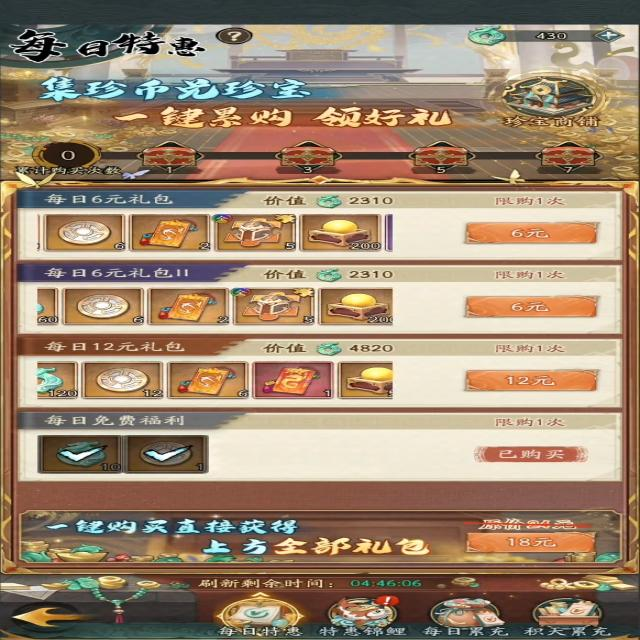navigation-DailyDiscount: (211, 594, 313, 640)
navigation-dailySum: (421, 594, 516, 638)
navigation-jitianSum: (523, 594, 616, 638)
navigation-tehuijinli: (312, 594, 419, 640)
navigation-treasureMall: (484, 66, 618, 132)
operation-back: (6, 598, 100, 633)
operation-buy: (456, 219, 606, 246), (457, 293, 604, 319), (460, 367, 600, 394), (463, 530, 604, 554)
operation-buy-off: (468, 444, 591, 466)
ref-buytext: (32, 337, 196, 354), (36, 190, 182, 209), (33, 265, 197, 281), (36, 412, 195, 428)
